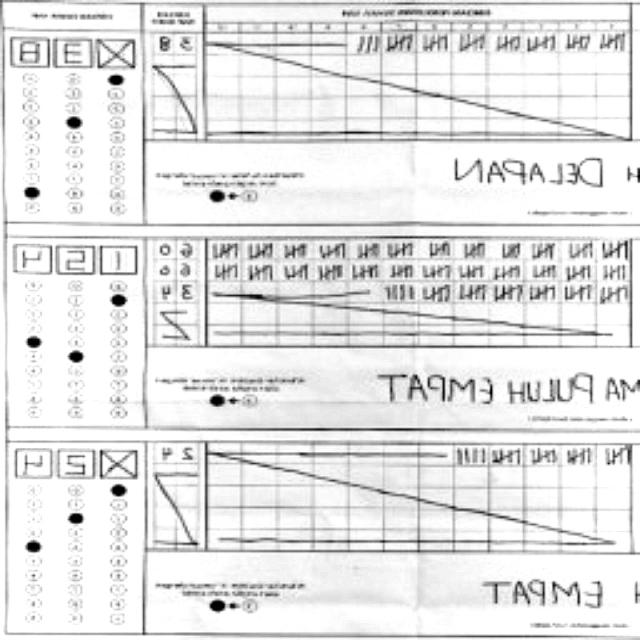Suara: (6, 30, 140, 74), (10, 440, 144, 484), (10, 238, 143, 282)
